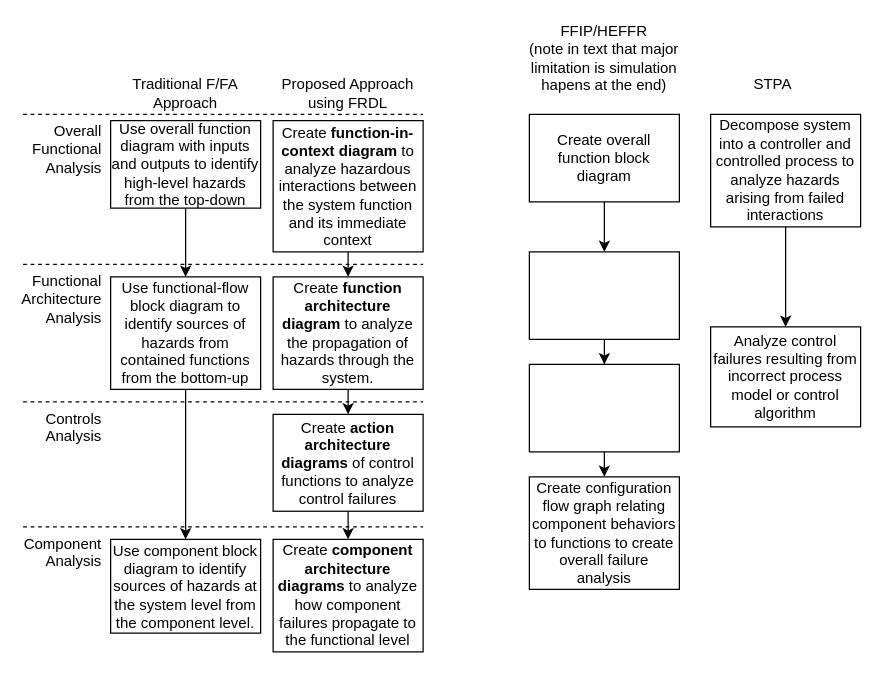
The diagram is 883 pixels wide and 674 high, and some of its shapes have lost their labels. The centre of each missing label's shape, as x and y in pixels:
(HEFFR) Create action sequence graph to represent human actions: (x=603, y=407)
Create functional model and flow state logic: (x=603, y=295)
